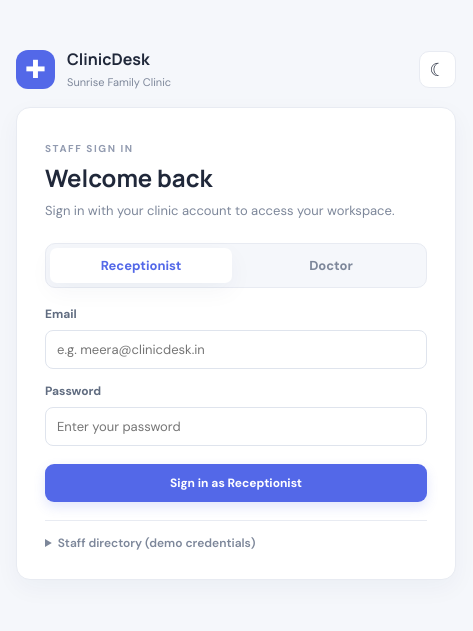
Test: Login flow › shows a generic error for invalid credentials or mismatched role
Expected: the heading "Welcome back" is shown, [45, 162, 212, 194]
Step 1. Type "priya@clinicdesk.in" into the field labelled "Email" → (236, 349), box [45, 330, 427, 368]
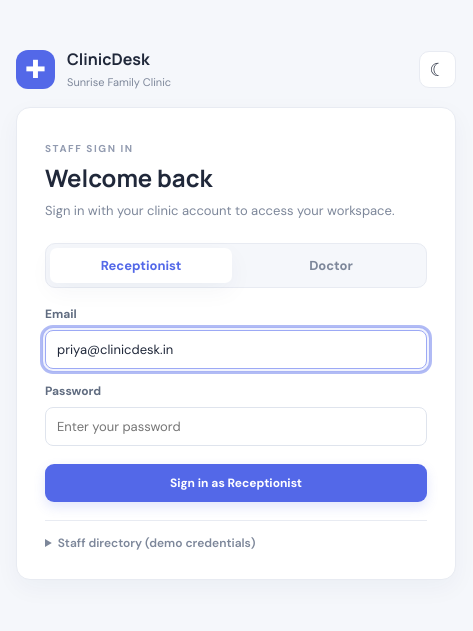
Step 2. Type "wrongpass" into the password field labelled "Password" → (236, 426), box [45, 406, 427, 446]
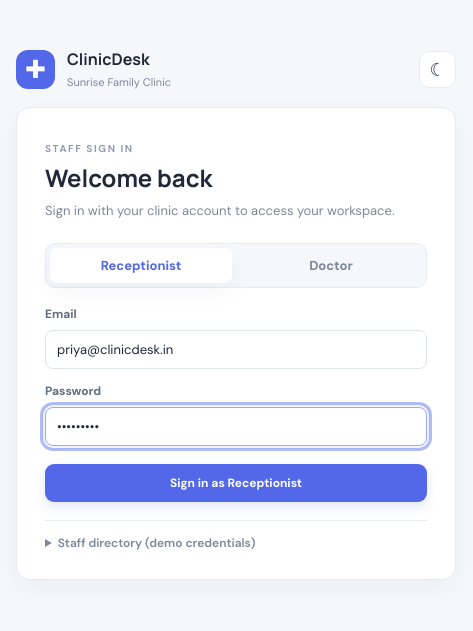
Step 3. Click the button "Sign in as Receptionist" → (236, 482), box [45, 464, 427, 502]
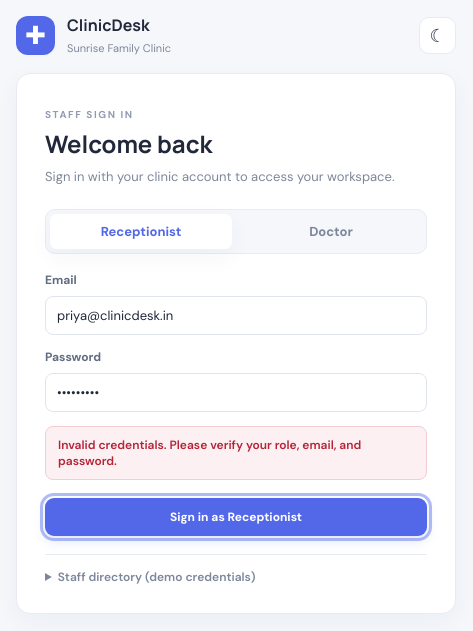
Expected: the message shows "Invalid credentials", [58, 436, 361, 468]
